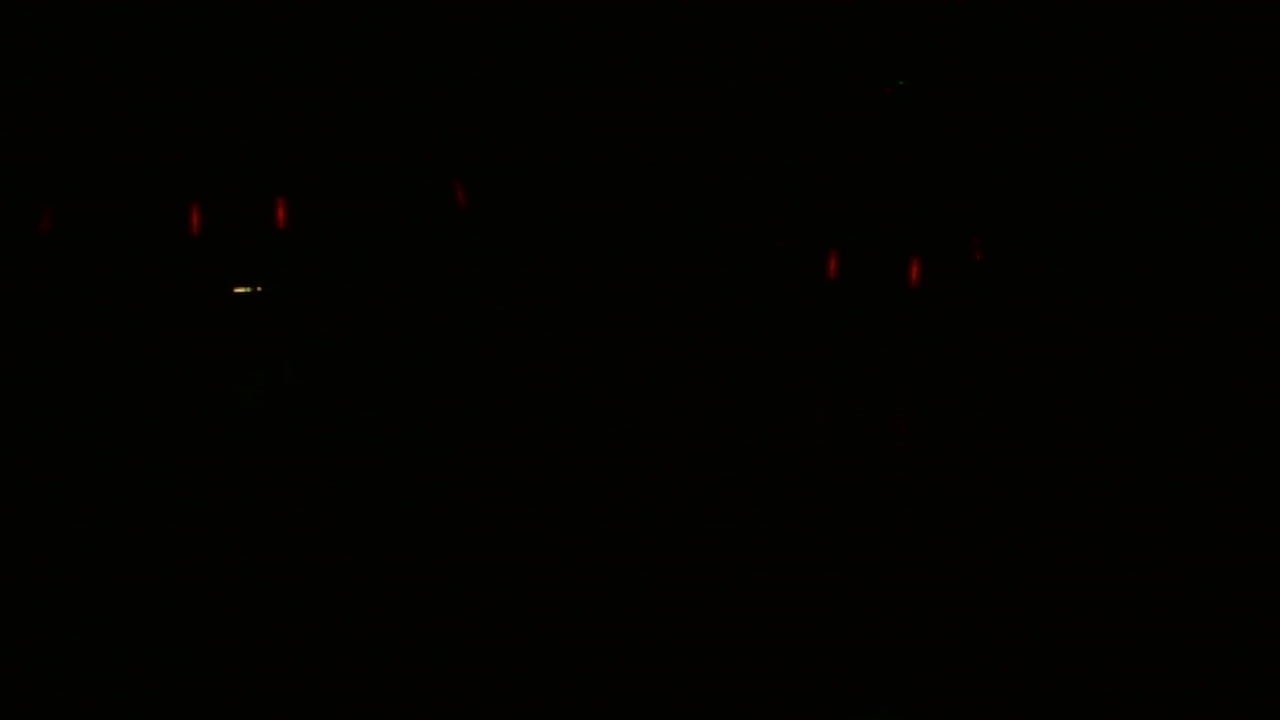pair1: (182, 182, 295, 246)
pair2: (814, 241, 933, 297)
